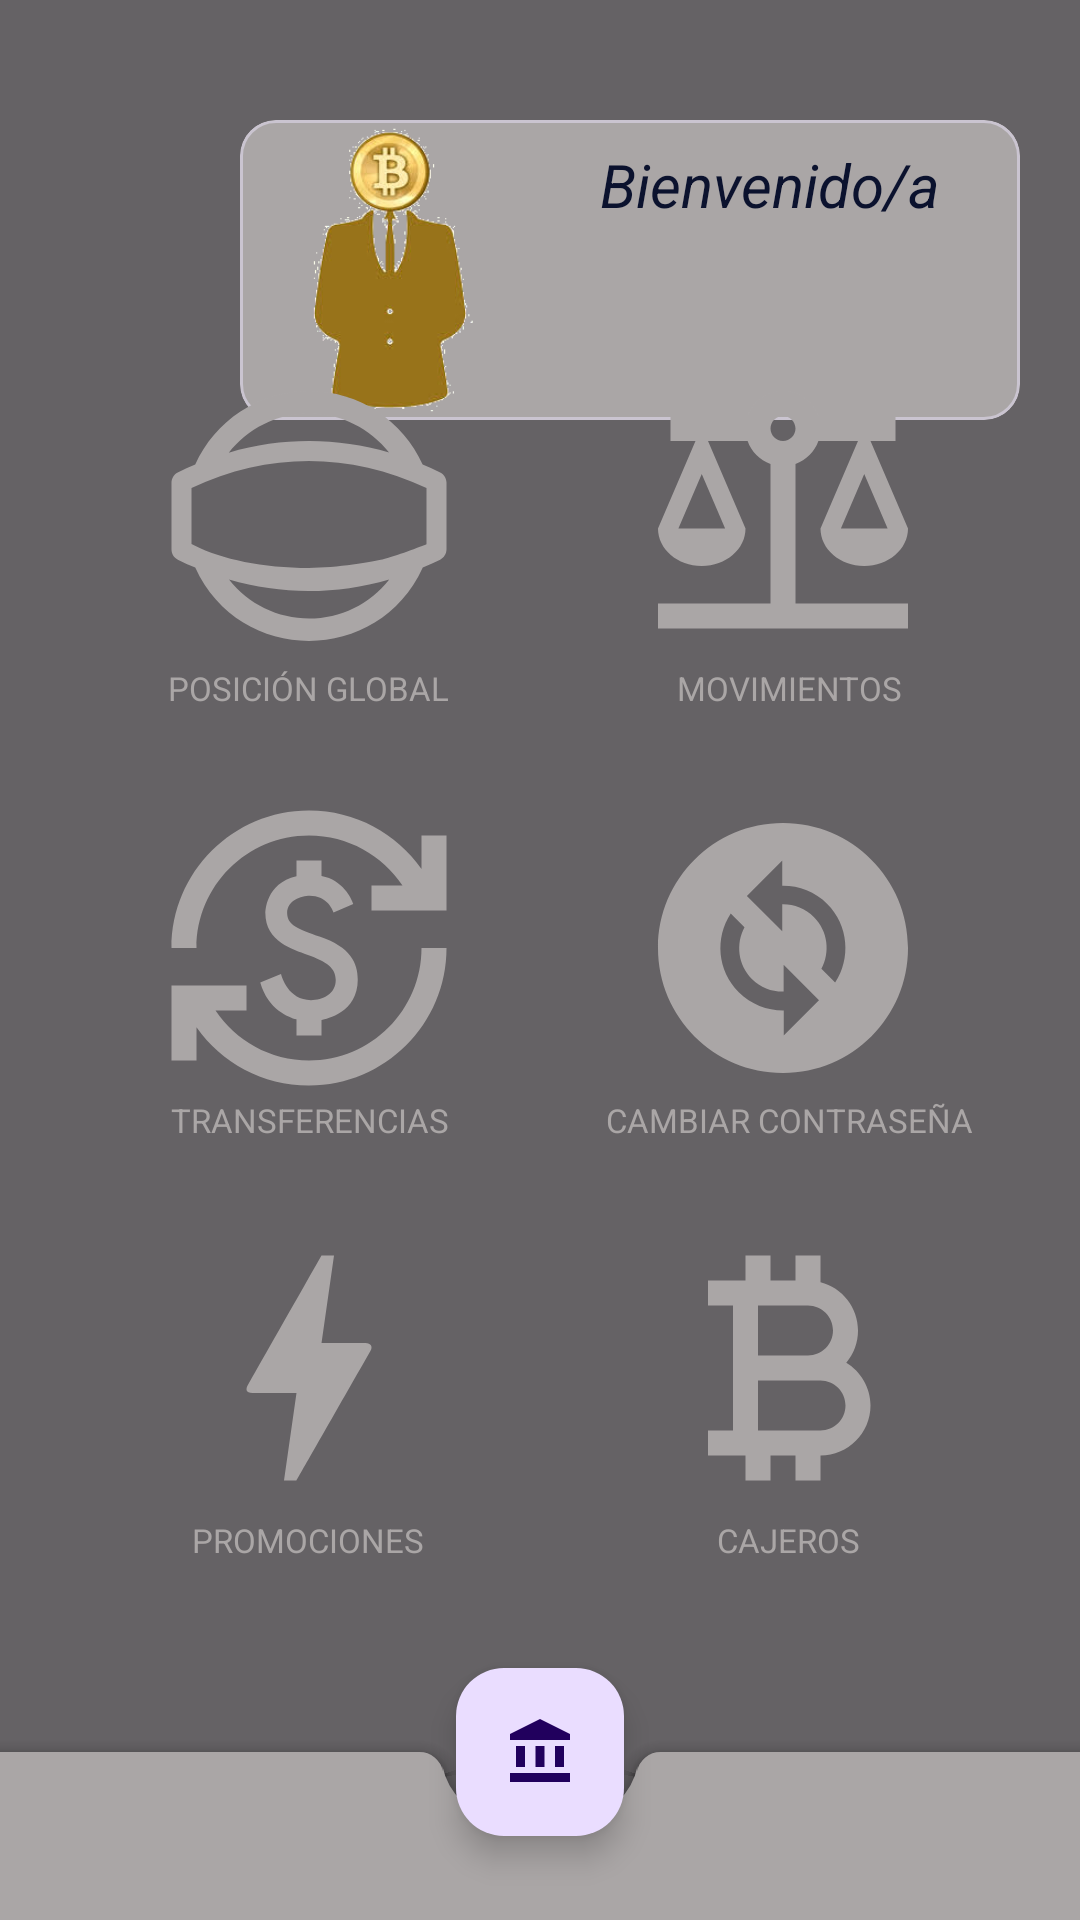

Screen size 1080*1920. Icon name, then its center in pixels as (x=x, y=y):
account balance: (x=540, y=1752)
balance: (x=783, y=497)
bolt: (x=309, y=1368)
change circle: (x=783, y=948)
currency exchange: (x=309, y=948)
panorama photosphere: (x=315, y=503)
